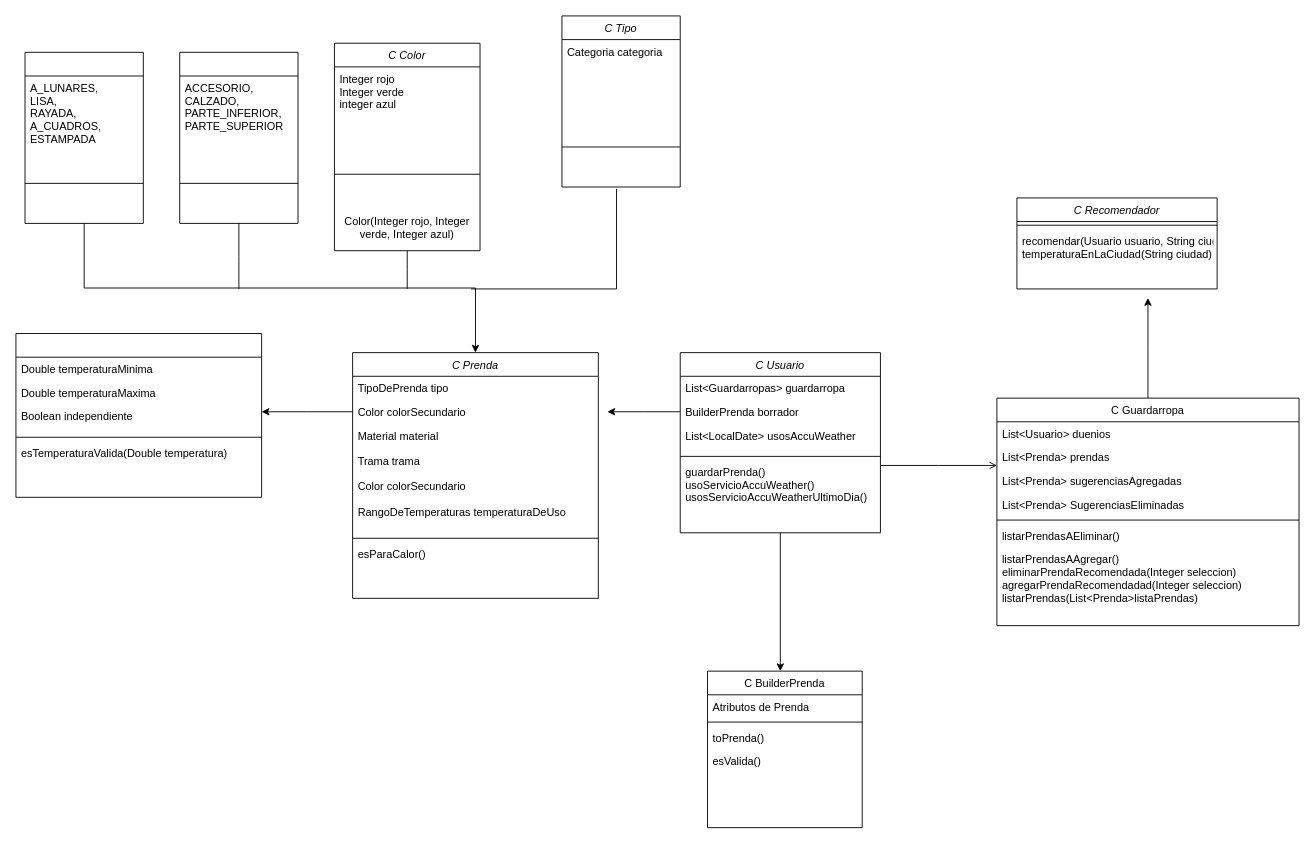
The diagram is 1315 pixels wide and 846 high, and some of its shapes have lost their labels. Each missing label, with the box of its shape:
C RangoDeTemperaturas: (15, 333, 262, 497)
E Categoria: (179, 51, 298, 223)
E Trama: (24, 51, 143, 223)
